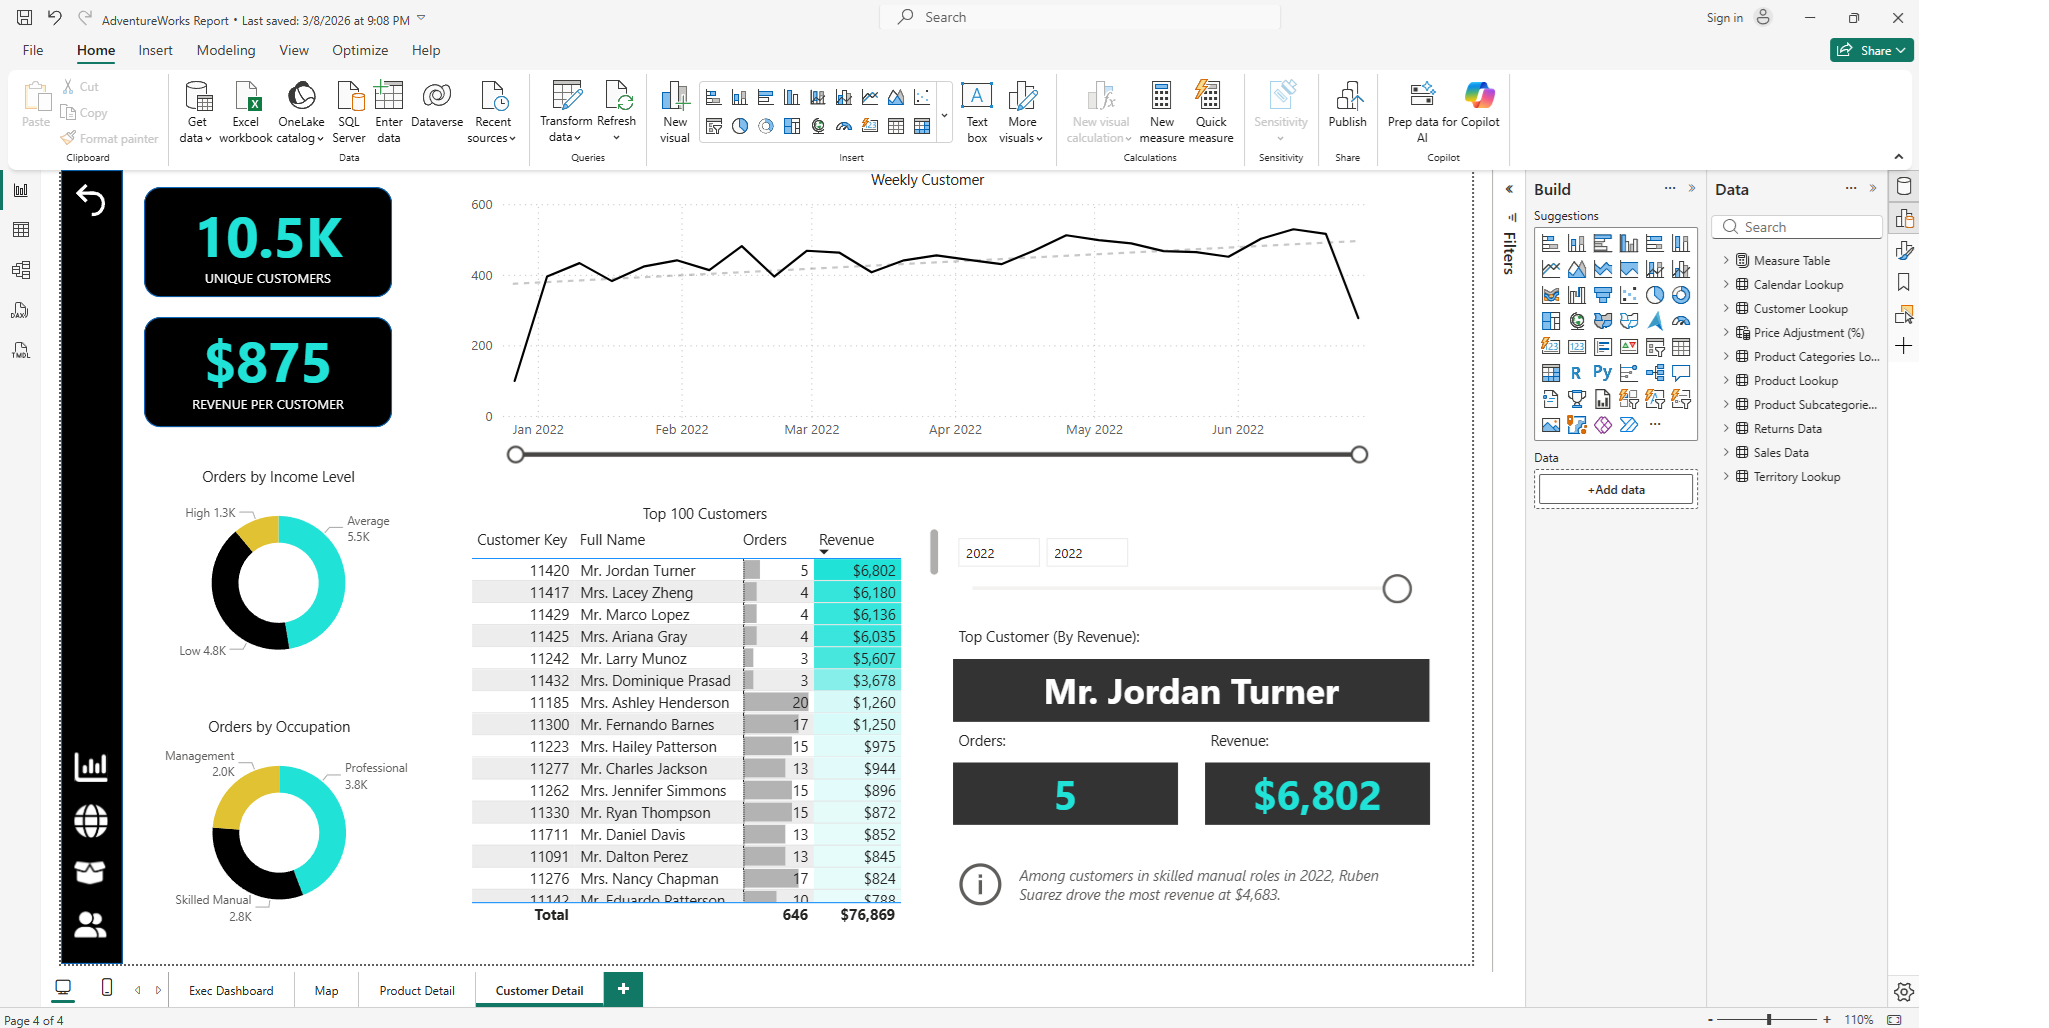

What the dashboard file says about the page in this screenshot:
{"tool":"powerbi","page":{"name":"Customer Detail","canvas":[1280,720],"ordinal":3},"visuals":[{"type":"shape","box":[0,0,56,720],"z":0},{"type":"actionButton","box":[8.3,521.2,38.3,39.5],"z":0,"group":"g1"},{"type":"shape","box":[75,15,225,100],"z":1000},{"type":"actionButton","box":[8.3,570.8,38.3,38.3],"z":1000,"group":"g1"},{"type":"card","fields":{"Values":["Measure Table.Total Customers"]},"box":[56,15,263,100],"z":2000},{"type":"actionButton","box":[8.3,619.2,38.3,36],"z":2000,"group":"g1"},{"type":"shape","box":[75,133,225,100],"z":3000},{"type":"actionButton","box":[8.3,665.1,38.3,37.2],"z":3000,"group":"g1"},{"type":"card","fields":{"Values":["Measure Table.Average Revenue Per Customer"]},"box":[56,125,263,108],"z":4000},{"type":"lineChart","title":"Weekly Customer","fields":{"Y":["Measure Table.Total Customers"],"Category":["Calendar Lookup.Date Hierarchy.Year","Calendar Lookup.Date Hierarchy.Start of Month","Calendar Lookup.Date Hierarchy.Start of Week","Calendar Lookup.Date Hierarchy.Date"]},"box":[366,0,839,269],"z":5000},{"type":"donutChart","title":"Orders by Income Level","fields":{"Category":["Customer Lookup.Income Level"],"Y":["Measure Table.Total Orders"]},"box":[75,269,244,193],"z":6000},{"type":"donutChart","title":"Orders by Occupation","fields":{"Category":["Customer Lookup.Occupation"],"Y":["Measure Table.Total Orders"]},"box":[76.2,496.3,243.5,192.8],"z":7000},{"type":"tableEx","title":"Top 100 Customers","fields":{"Values":["Customer Lookup.CustomerKey","Customer Lookup.Full Name","Measure Table.Total Orders","Measure Table.Total Revenue"]},"box":[366,303,435,386],"z":8000},{"type":"card","fields":{"Values":["Measure Table.Full Name (Customer Detail)"]},"box":[809,443,432,57],"z":9000},{"type":"card","fields":{"Values":["Measure Table.Total Orders (Customer Detail)"]},"box":[809,537,204,57],"z":10000},{"type":"card","fields":{"Values":["Measure Table.Total Revenue (Customer Detail)"]},"box":[1037,537,204,57],"z":11000},{"type":"textbox","box":[809,409,204,34],"z":12000},{"type":"textbox","box":[809,503,204,34],"z":13000},{"type":"textbox","box":[1037,503,204,34],"z":14000},{"type":"slicer","fields":{"Values":["Calendar Lookup.Year"]},"box":[801,324,432,72],"z":15000},{"type":"actionButton","box":[809.1,623.3,415.5,49.6],"z":16000},{"type":"actionButton","box":[7,7,40.7,39.5],"z":17000},{"type":"group","id":"g1","title":"Navigation buttons","box":[8.3,521.2,37.5,180.7],"z":18000}]}

Visuals, with their boxes on the page's 1280x720 design canvas (x1, y1, x2, y2). These are canvas units, not pixel positions in the 2049x1028 screenshot, which may show the page scaled, cropped or inside an application window:
shape: (0,0,56,720)
actionButton: (8,521,47,561)
shape: (75,15,300,115)
actionButton: (8,571,47,609)
card - Measure Table.Total Customers: (56,15,319,115)
actionButton: (8,619,47,655)
shape: (75,133,300,233)
actionButton: (8,665,47,702)
card - Measure Table.Average Revenue Per Customer: (56,125,319,233)
"Weekly Customer" lineChart: (366,0,1205,269)
"Orders by Income Level" donutChart: (75,269,319,462)
"Orders by Occupation" donutChart: (76,496,320,689)
"Top 100 Customers" tableEx: (366,303,801,689)
card - Measure Table.Full Name (Customer Detail): (809,443,1241,500)
card - Measure Table.Total Orders (Customer Detail): (809,537,1013,594)
card - Measure Table.Total Revenue (Customer Detail): (1037,537,1241,594)
textbox: (809,409,1013,443)
textbox: (809,503,1013,537)
textbox: (1037,503,1241,537)
slicer - Calendar Lookup.Year: (801,324,1233,396)
actionButton: (809,623,1225,673)
actionButton: (7,7,48,46)
"Navigation buttons" group: (8,521,46,702)
